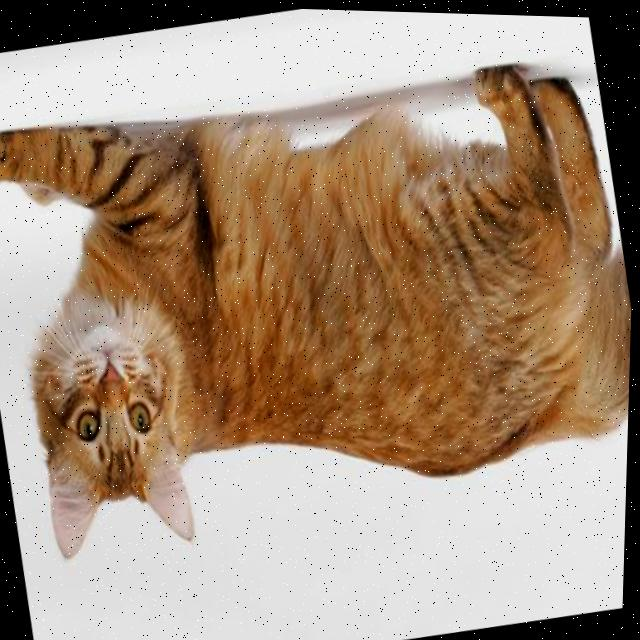American Bobtail: (0, 21, 640, 588)
